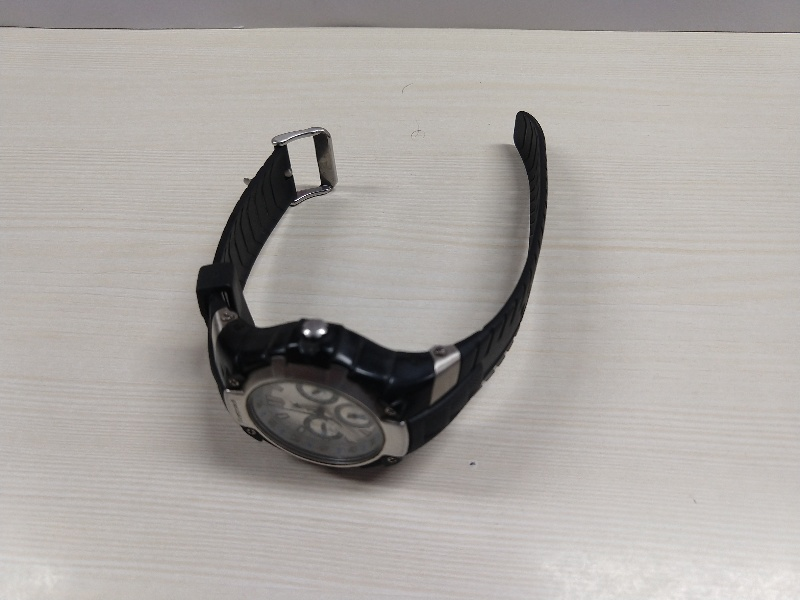watch: (195, 87, 556, 486)
